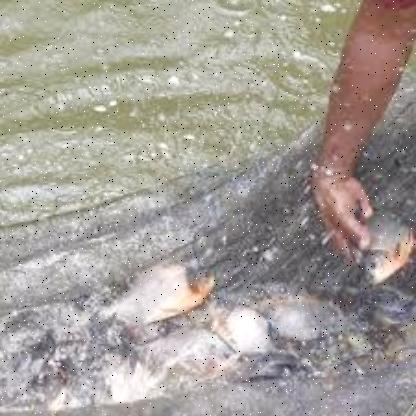ikan-pacu: (102, 256, 212, 320), (362, 210, 416, 282)
